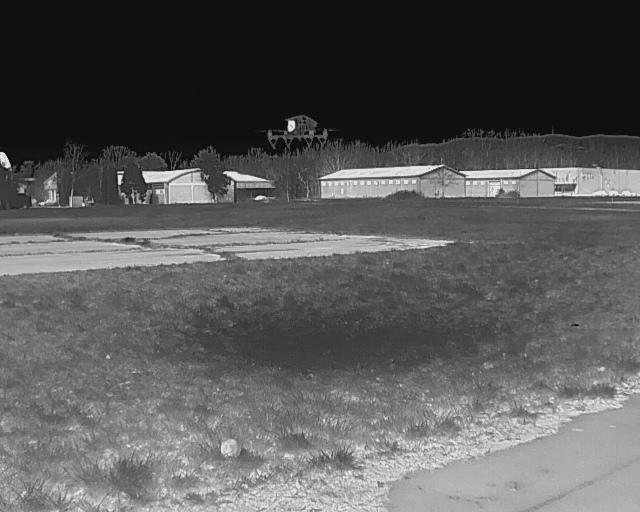drone: (262, 107, 339, 152)
